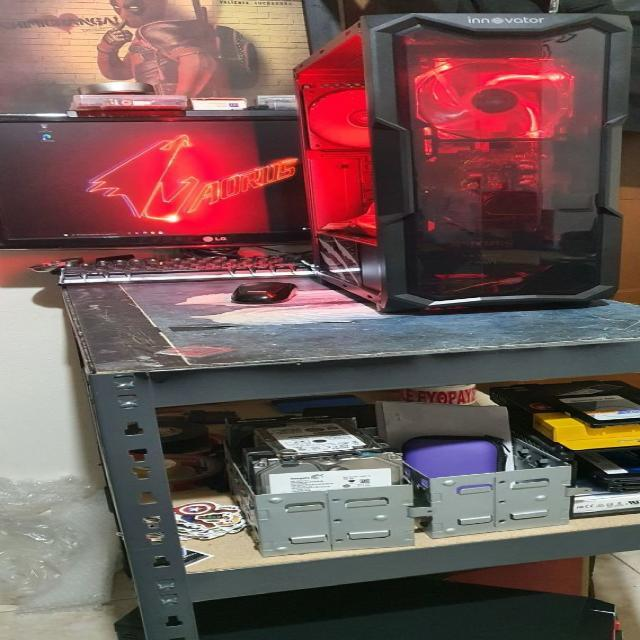Computer-Mouse: (226, 272, 318, 310)
Desktop-PC: (286, 15, 620, 322)
